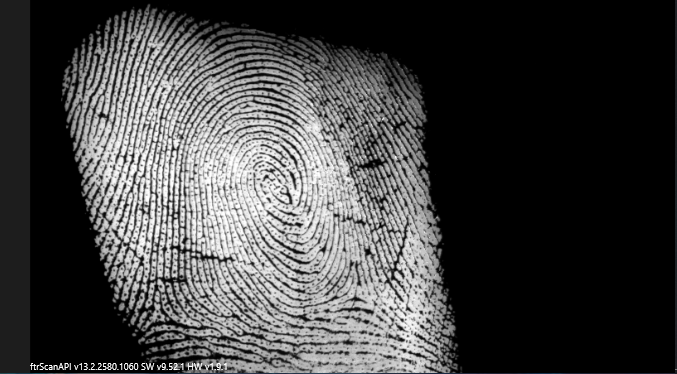nucelo: (249, 163, 295, 205)
verticilo: (138, 291, 172, 329), (337, 278, 369, 309)
